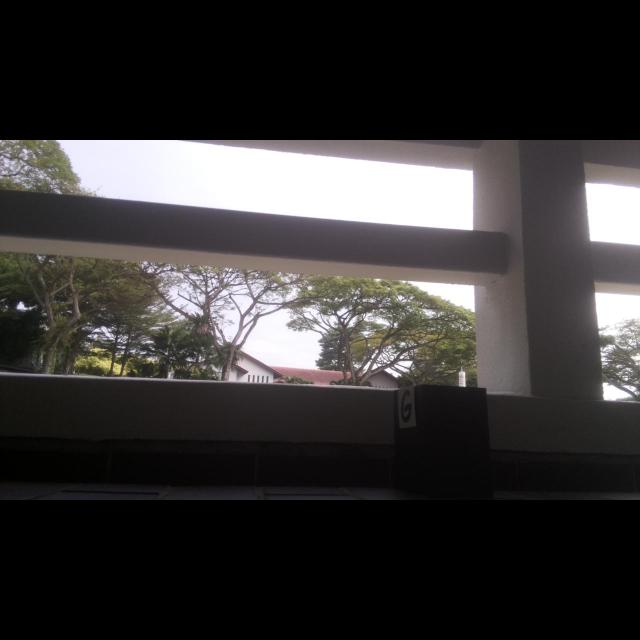G: (401, 390, 411, 423)
